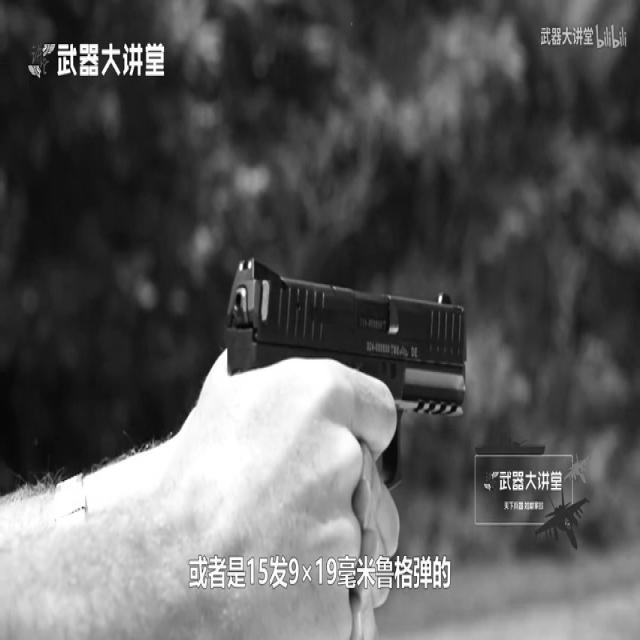Hand-Gun: (210, 234, 485, 540)
